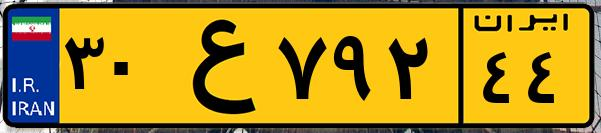0: (110, 28, 158, 98)
2: (385, 28, 445, 110)
3: (57, 26, 110, 100)
4: (475, 38, 525, 113), (525, 38, 570, 115)
7: (270, 28, 330, 110)
9: (330, 28, 385, 110)
ع: (158, 12, 270, 120)
